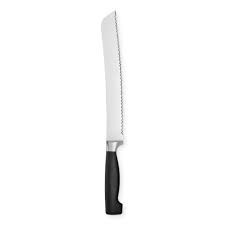knife: (99, 8, 125, 216)
